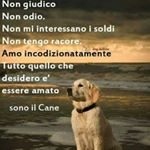puppy: (64, 77, 115, 150)
